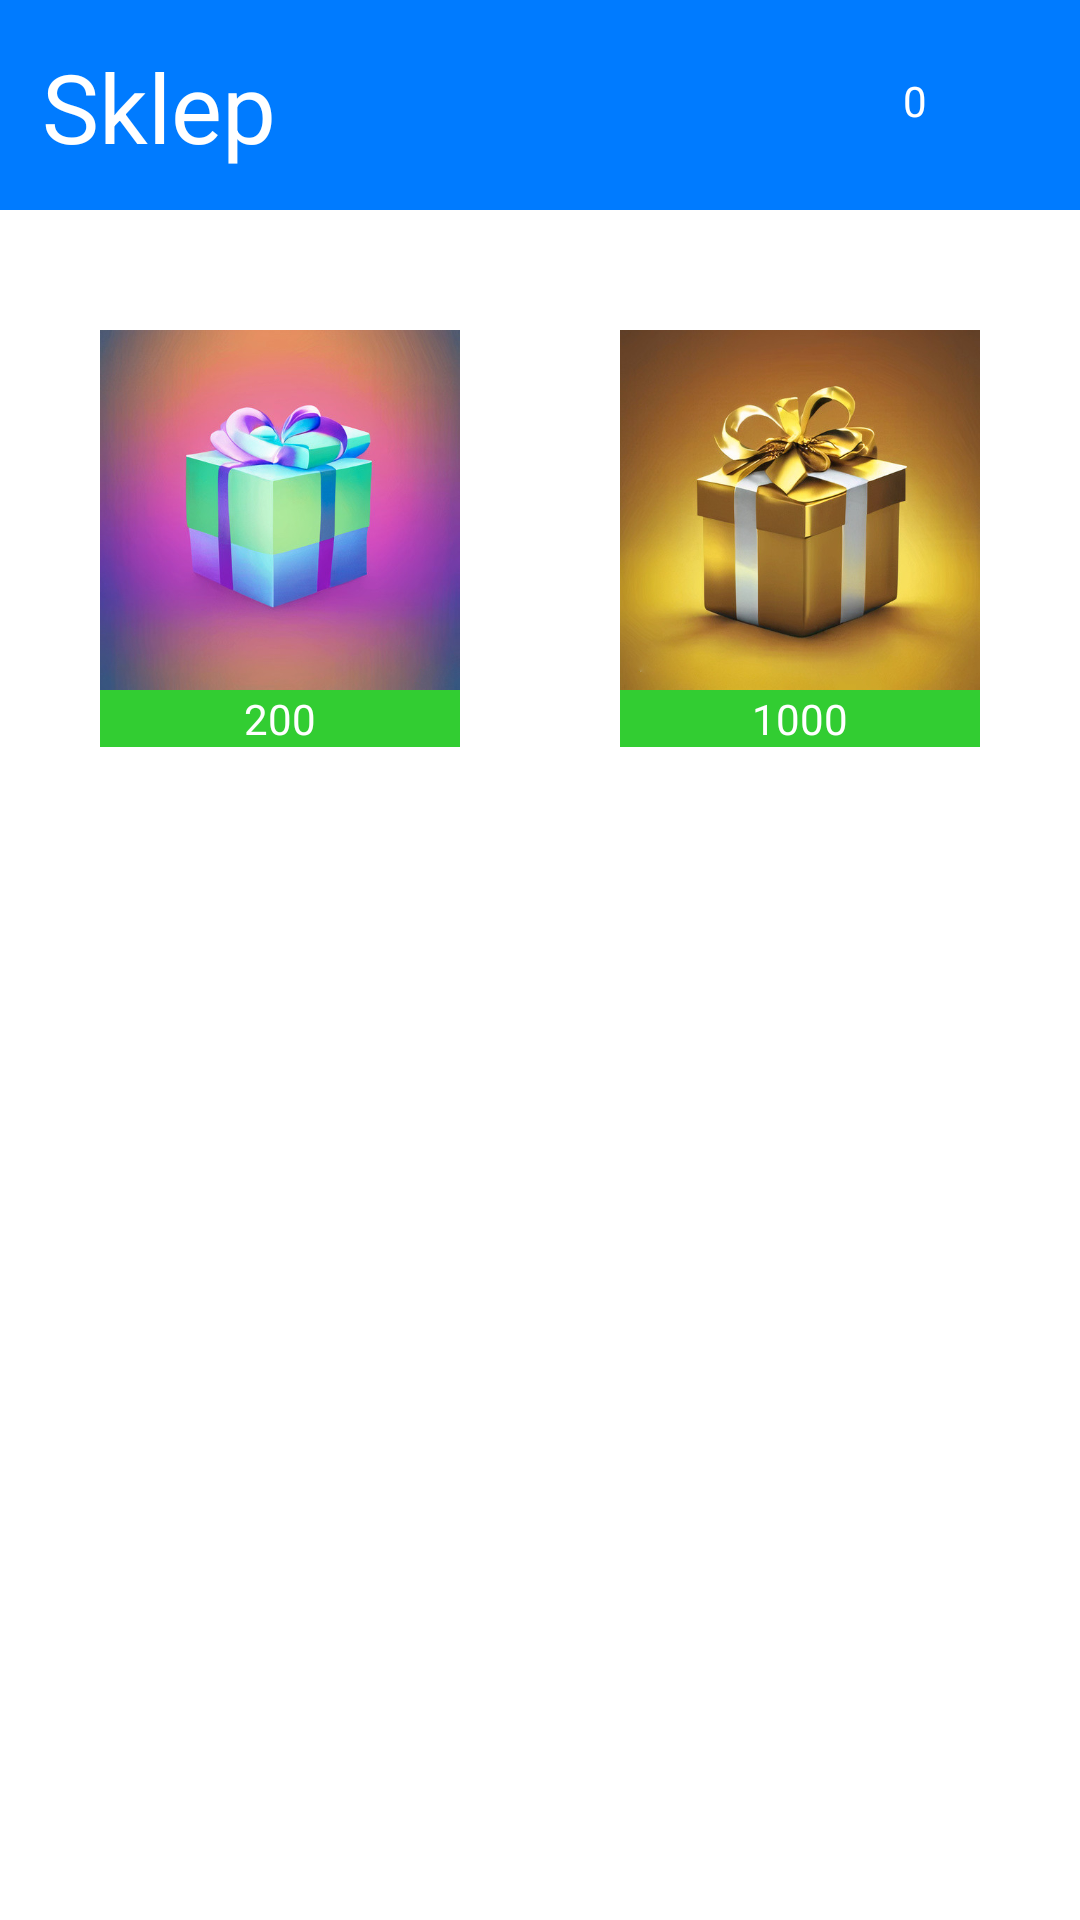

Named icons in this screenshot (1080*1920) and their bounding boxes, (x1, y1, x2, y2):
goldengift: (620, 330, 980, 690)
gradientgift: (100, 330, 460, 690)
